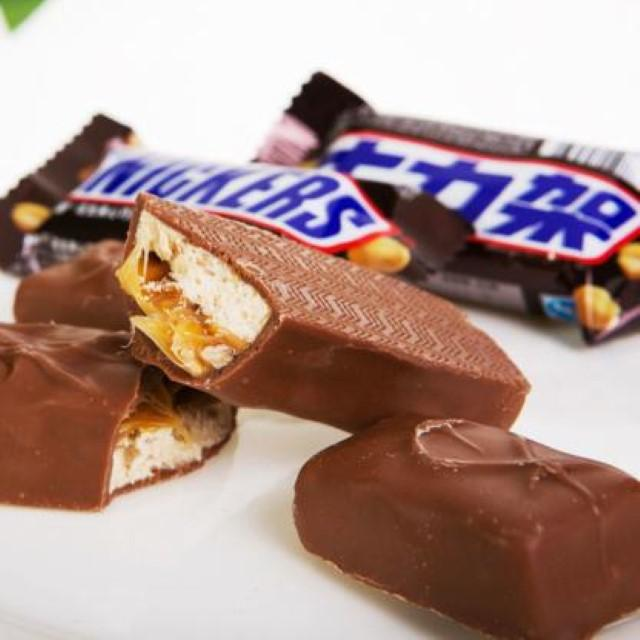snickers_chocolate: (316, 68, 640, 299), (85, 125, 285, 237)
